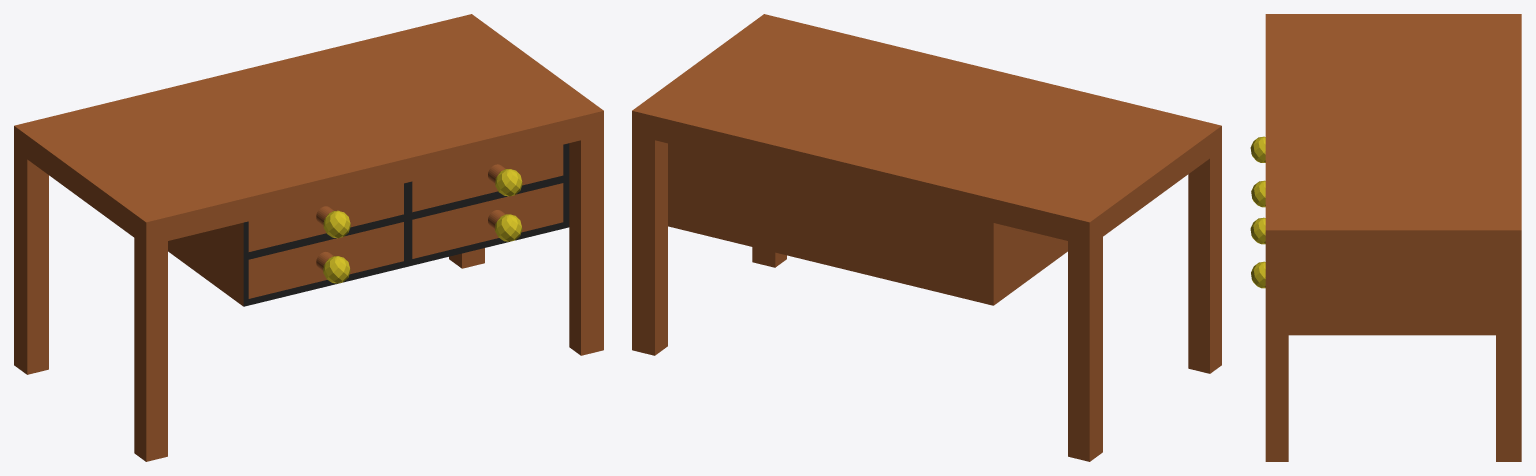
Rendered from bureau.fbx.
3 renders of one model, left to right at view 1: azimuth 30°, elevation 25°; view 2: azimuth 150°, elevation 25°; view 3: azimuth 270°, elevation 25°, orthographic. The views are drawn at different scales.
Parts seen in each view (by area): view 1: bureau; view 2: bureau; view 3: bureau.
Boxes of the visible parts, x1,y1,x2,y2 form: bureau: (14,14,603,461); bureau: (632,14,1221,461); bureau: (1250,14,1521,461).
Bounding box in the file's own units: 400 × 200 × 212.
